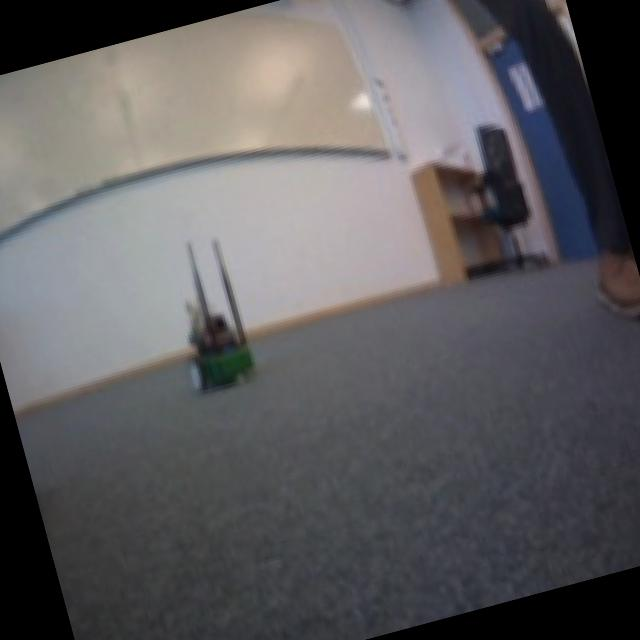robot: (179, 317, 263, 395)
